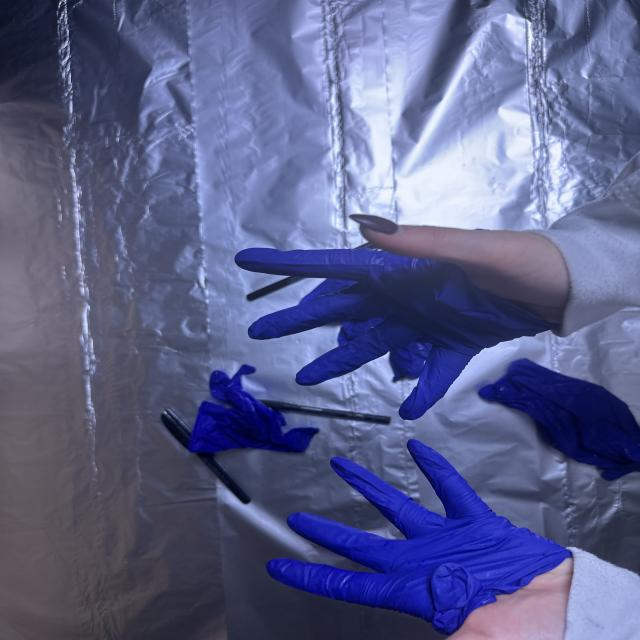glove_partial: (232, 211, 574, 420), (271, 435, 580, 640)
